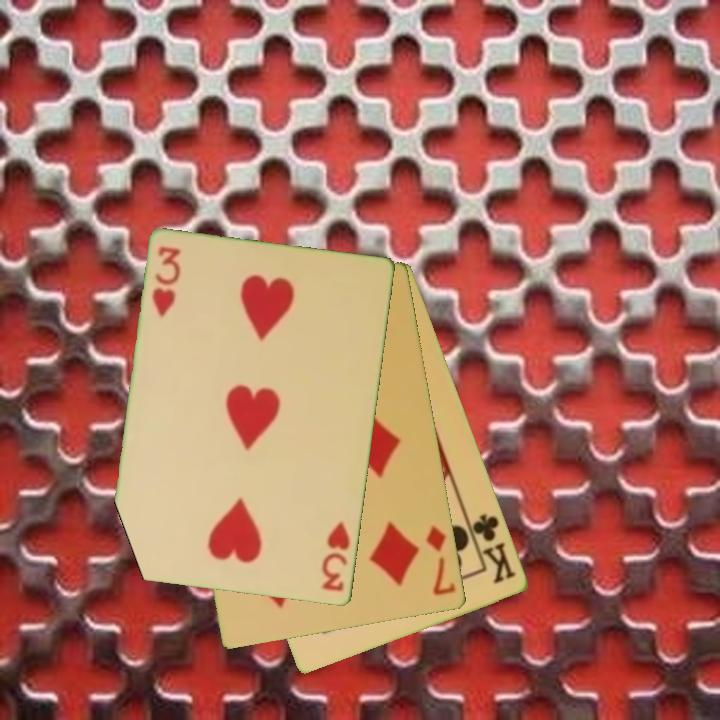3h: (318, 518, 354, 595), (149, 243, 184, 320)
7d: (422, 521, 459, 599)
Kc: (464, 510, 520, 587)
